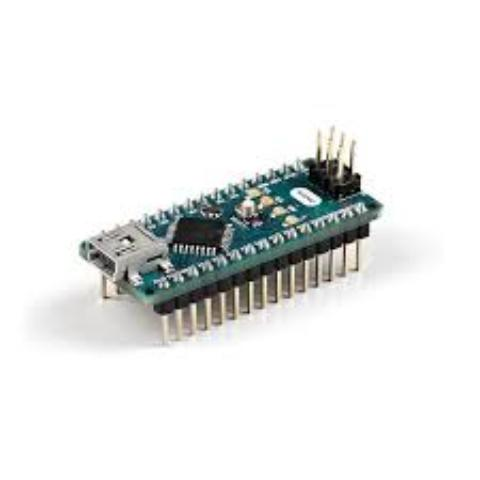Arduino-Nano: (73, 125, 392, 350)
